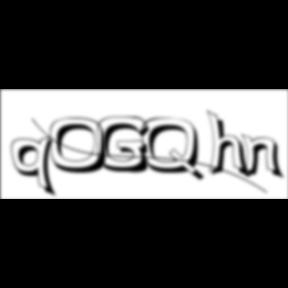G: (97, 116, 156, 176)
O: (50, 117, 115, 176)
Q: (141, 117, 207, 184)
h: (207, 108, 254, 182)
n: (242, 132, 288, 181)
q: (12, 135, 60, 200)
